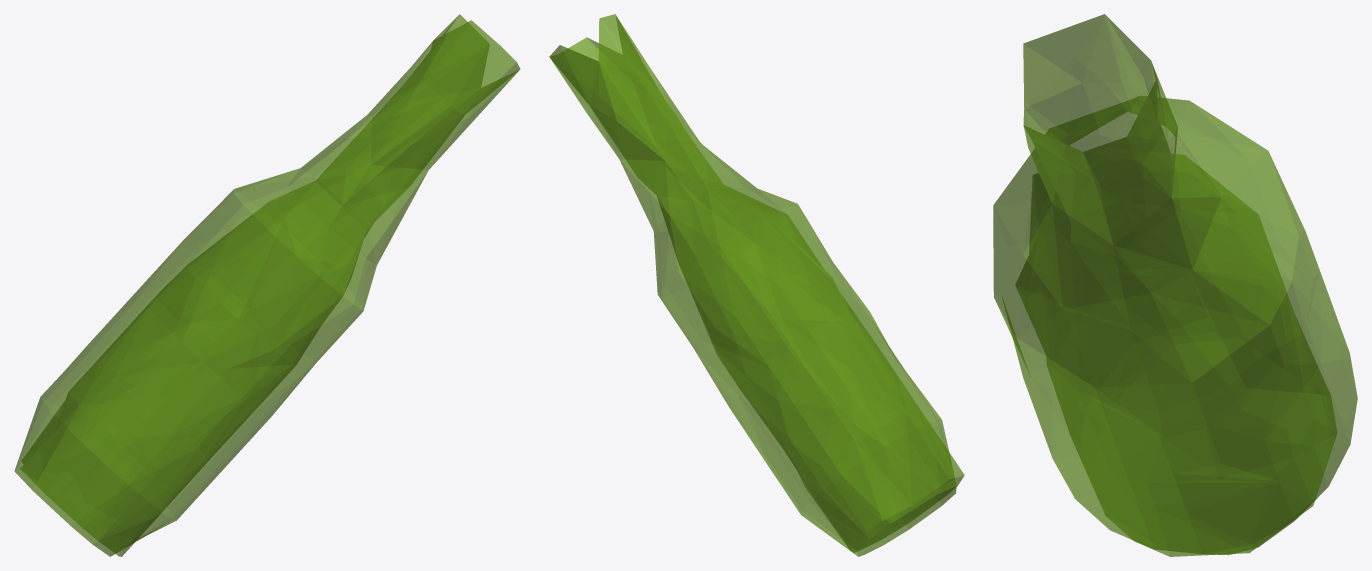
Rendered from bottleLP.glb.
The picture shows the model from 3 angles, left to right: view 1: azimuth 30°, elevation 25°; view 2: azimuth 150°, elevation 25°; view 3: azimuth 270°, elevation 25°; orthographic projection. The views are drawn at different scales.
Parts seen in each view (by area): view 1: polySurface5; view 2: polySurface5; view 3: polySurface5.
Part boxes in pixels (x1,y1,x2,y2): polySurface5: (14, 14, 520, 556); polySurface5: (549, 14, 964, 556); polySurface5: (993, 14, 1357, 556).
Size of the model in its own units: 0.0417 by 0.0411 by 0.0167.
